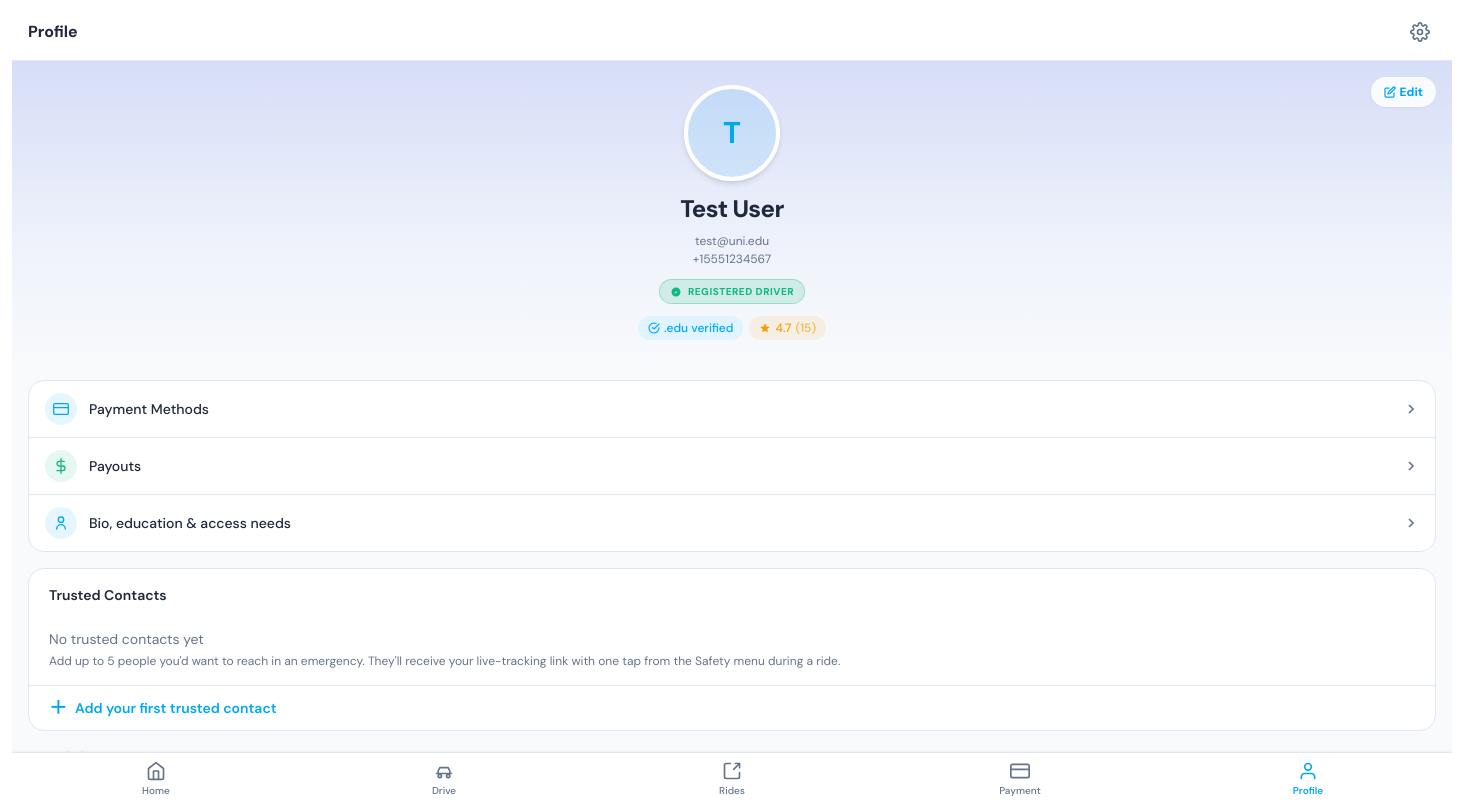
Test: ProfilePage › edit button opens edit form with name and phone inputs
The image size is (1464, 810).
What coordinates should you click on to do the following:
click the button with test id "edit-profile-button"
I would click on:
 (1403, 92)
Its box is [1370,77,1436,107].
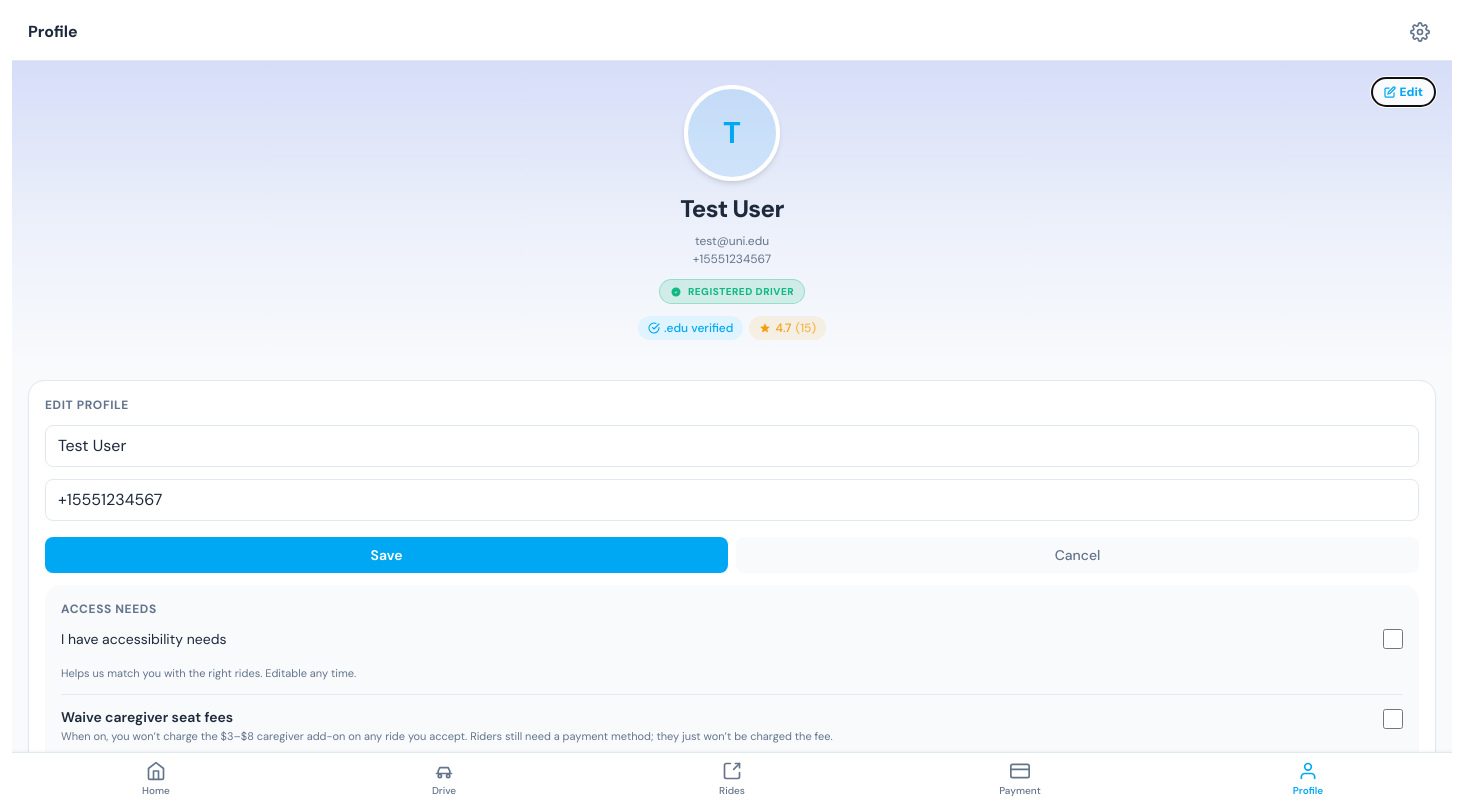
Result: the field with test id "edit-name-input" holds "Test User" at [45,425,1419,467]
Result: the field with test id "edit-phone-input" holds "+15551234567" at [45,479,1419,521]
